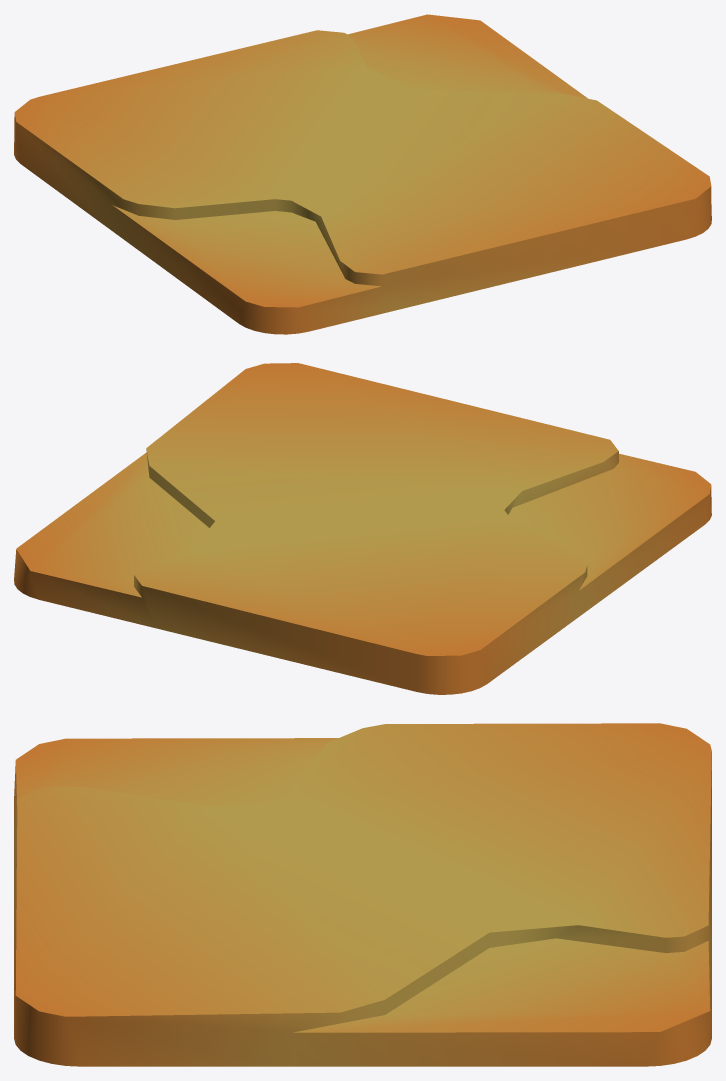
The picture shows the model from 3 angles, top to bottom: view 1: azimuth 30°, elevation 25°; view 2: azimuth 150°, elevation 25°; view 3: azimuth 270°, elevation 25°; orthographic projection. The views are drawn at different scales.
Parts seen in each view (by area): view 1: LOD 1_332424658592034533_2d0e7e9e3a92c6c43b8ba9db1d431990; view 2: LOD 1_332424658592034533_2d0e7e9e3a92c6c43b8ba9db1d431990; view 3: LOD 1_332424658592034533_2d0e7e9e3a92c6c43b8ba9db1d431990.
Part boxes in pixels (x1,y1,x2,y2): LOD 1_332424658592034533_2d0e7e9e3a92c6c43b8ba9db1d431990: (14, 14, 711, 334); LOD 1_332424658592034533_2d0e7e9e3a92c6c43b8ba9db1d431990: (14, 363, 711, 694); LOD 1_332424658592034533_2d0e7e9e3a92c6c43b8ba9db1d431990: (14, 723, 711, 1066).
Size of the model in its own units: 5.67 by 0.44 by 5.67.
